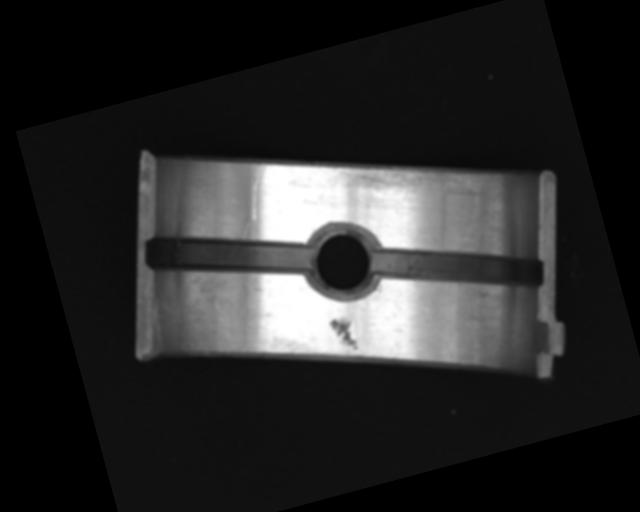bruise: (328, 313, 360, 356)
gap: (370, 209, 545, 327), (141, 201, 314, 309)
hole: (295, 217, 389, 307)
nick: (240, 161, 279, 220)
scratch: (282, 117, 499, 248)
